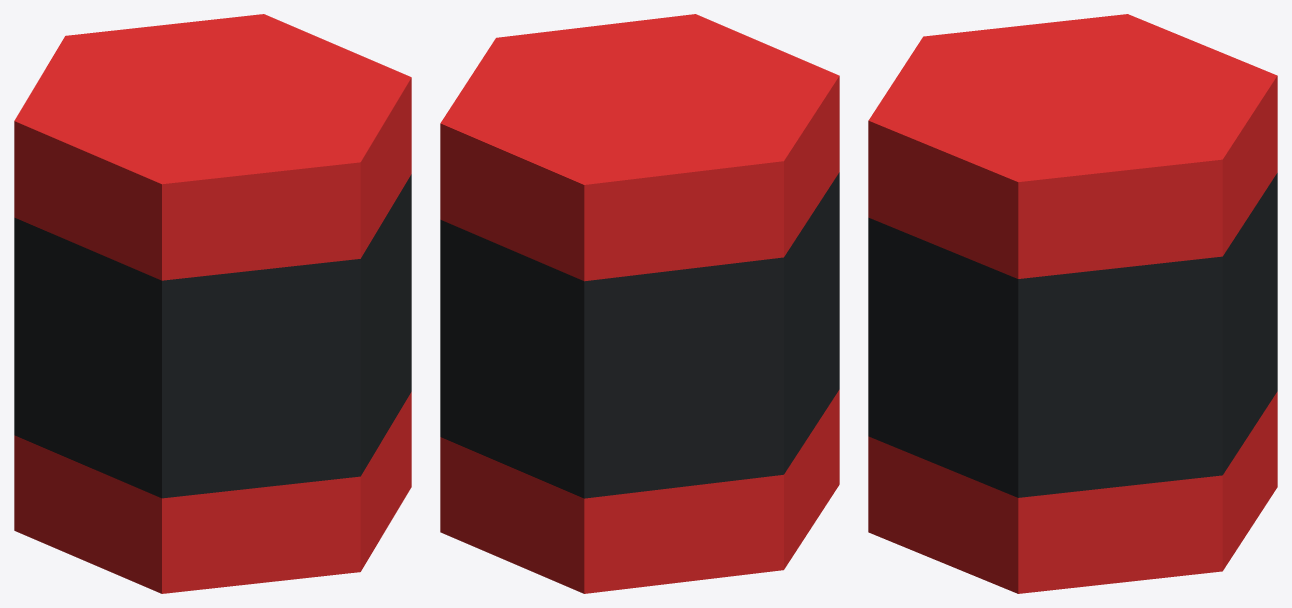
File: tank_2.FBX
3 renders of one model, left to right at view 1: azimuth 30°, elevation 25°; view 2: azimuth 150°, elevation 25°; view 3: azimuth 270°, elevation 25°, orthographic.
Visible parts, largest first — view 1: tank_2; view 2: tank_2; view 3: tank_2.
Part boxes in pixels (left/top/right/bottom): tank_2: left=14, top=14, right=411, bottom=593; tank_2: left=440, top=14, right=839, bottom=593; tank_2: left=868, top=14, right=1277, bottom=593.
Bounding box in the file's own units: 5.34 × 6.1 × 5.49.
